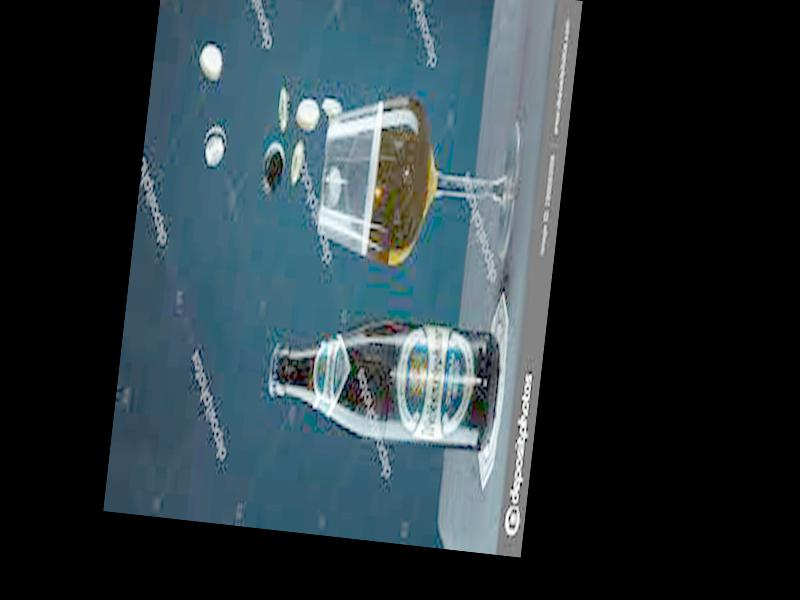Beer: (266, 311, 501, 449)
